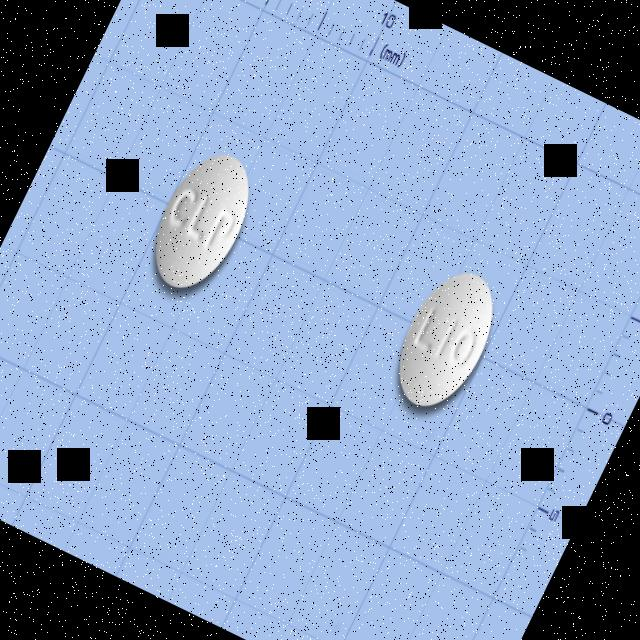Luarva - 20mg: (135, 136, 271, 304), (379, 258, 512, 424)
